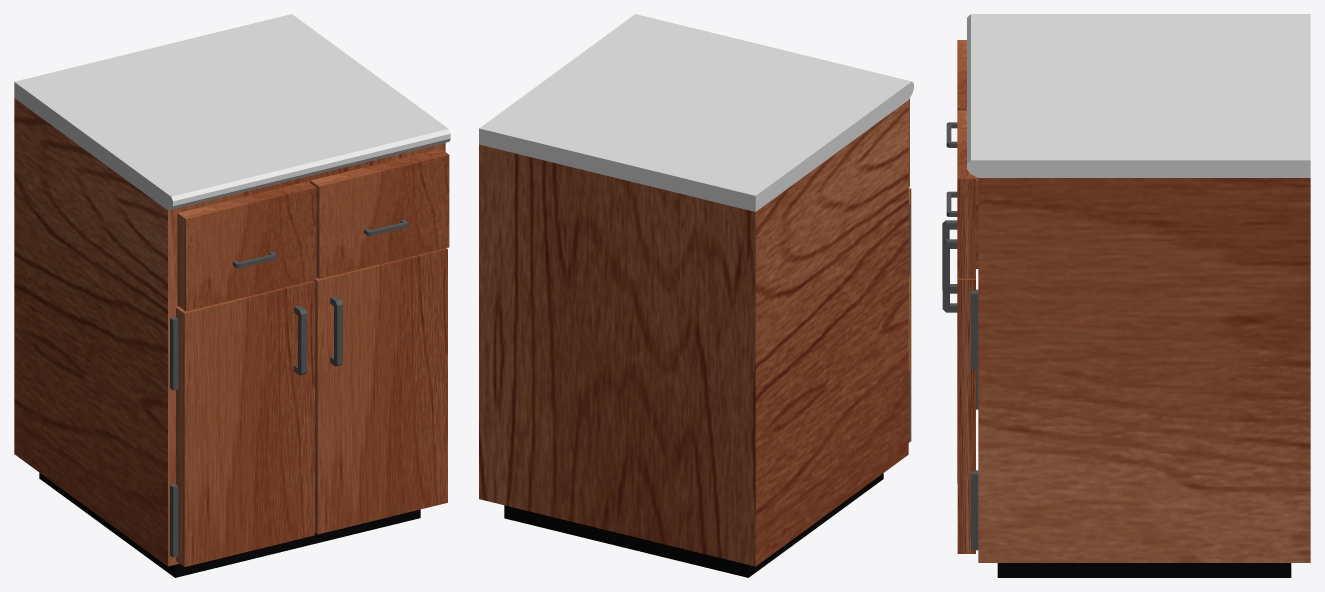
The model's file is wood_cabinets.fbx.
3 renders of one model, left to right at view 1: azimuth 30°, elevation 25°; view 2: azimuth 150°, elevation 25°; view 3: azimuth 270°, elevation 25°, orthographic. The views are drawn at different scales.
Visible parts, largest first — view 1: cabinet, right_door, lefT_door, right_drawer, left_drawer, left_door_handle, right_door_handle, pivot_thing2, pivot_thing3; view 2: cabinet, right_door; view 3: cabinet, lefT_door, left_drawer, left_door_handle, right_drawer, pivot_thing, pivot_thing1.
Part boxes in pixels (left/top/right/bottom): cabinet: left=14, top=14, right=450, bottom=577; right_door: left=176, top=280, right=314, bottom=566; lefT_door: left=313, top=248, right=447, bottom=534; right_drawer: left=177, top=181, right=316, bottom=311; left_drawer: left=310, top=149, right=449, bottom=278; left_door_handle: left=330, top=296, right=342, bottom=366; right_door_handle: left=294, top=305, right=306, bottom=375; pivot_thing2: left=170, top=483, right=178, bottom=557; pivot_thing3: left=170, top=316, right=178, bottom=390; cabinet: left=479, top=14, right=913, bottom=577; right_door: left=908, top=188, right=911, bottom=442; cabinet: left=967, top=14, right=1310, bottom=577; lefT_door: left=957, top=269, right=975, bottom=553; left_drawer: left=957, top=110, right=978, bottom=278; left_door_handle: left=942, top=239, right=957, bottom=312; right_drawer: left=957, top=40, right=966, bottom=110; pivot_thing: left=971, top=289, right=978, bottom=369; pivot_thing1: left=971, top=470, right=978, bottom=550.
Bounding box in the file's own units: 1.67 × 2.26 × 1.77.
4 materials, 1 textured.
